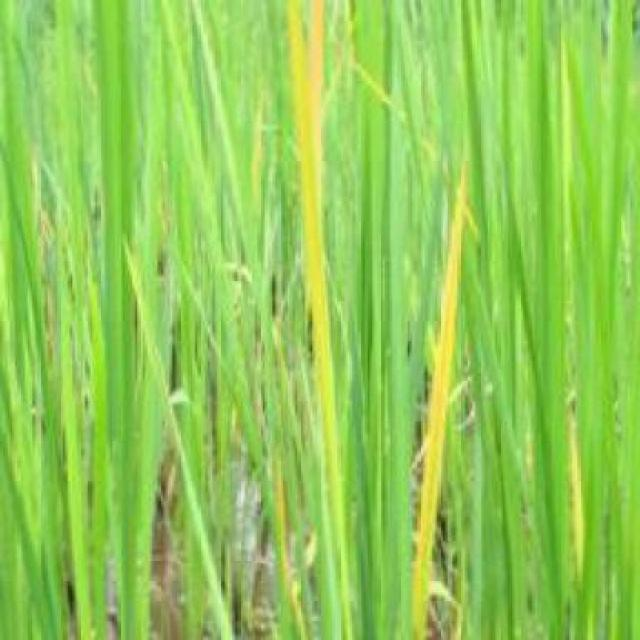Rice Tungro: (289, 9, 350, 634), (408, 173, 471, 636)
